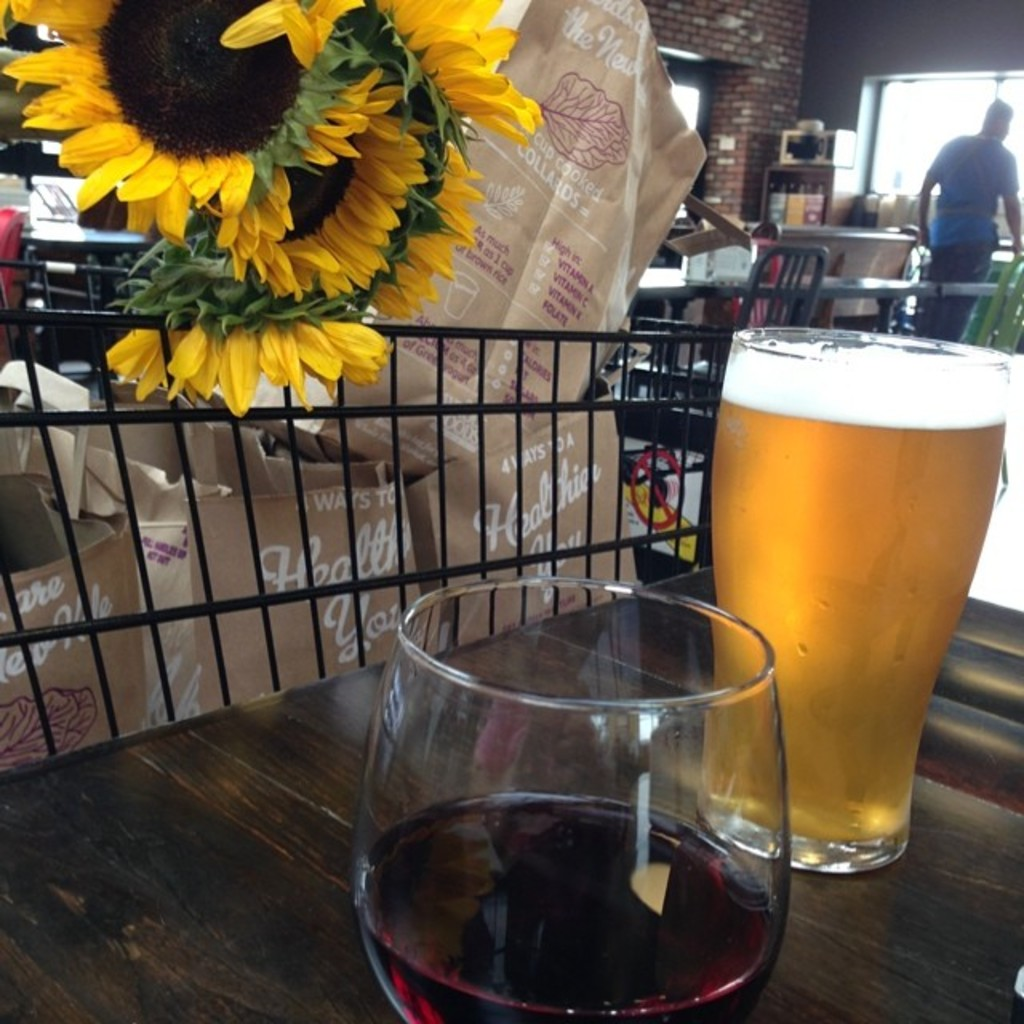Beer: (697, 336, 1008, 870)
